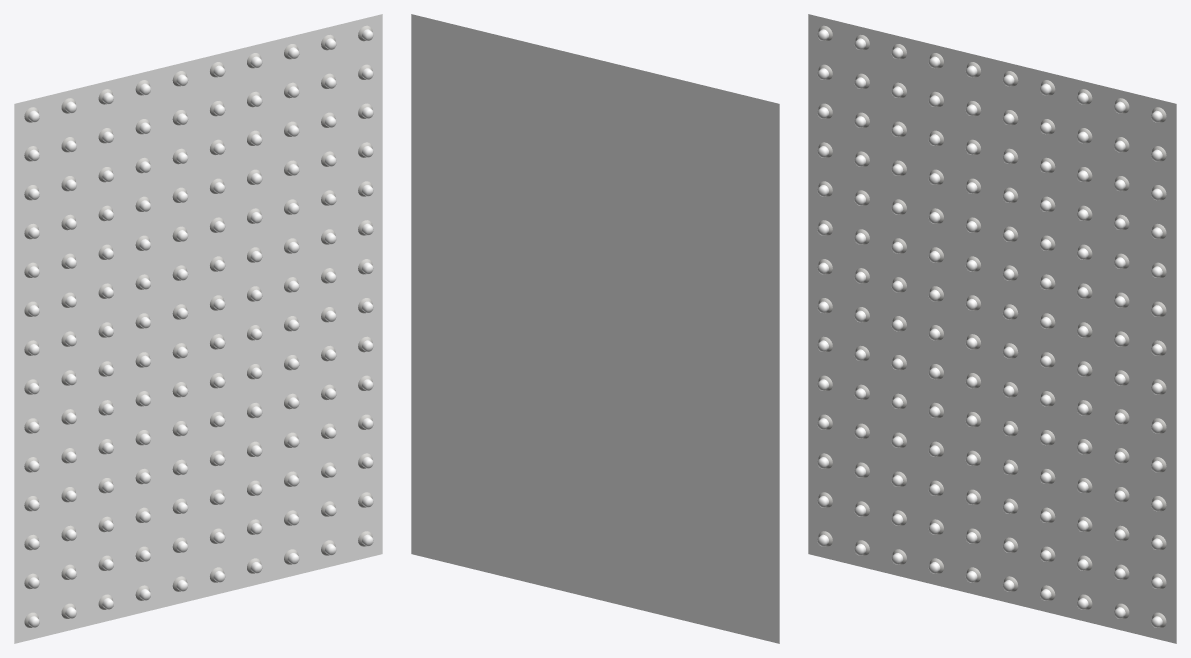
The model's file is PanelLight01.FBX.
3 renders of one model, left to right at view 1: azimuth 30°, elevation 25°; view 2: azimuth 150°, elevation 25°; view 3: azimuth 330°, elevation 25°, orthographic.
Parts seen in each view (by area): view 1: PanelLight01; view 2: PanelLight01; view 3: PanelLight01.
Boxes of the visible parts, x1,y1,x2,y2 form: PanelLight01: (14,14,382,643); PanelLight01: (411,14,779,643); PanelLight01: (808,14,1176,643).
Bounding box in the file's own units: 250 × 350 × 5.91.
